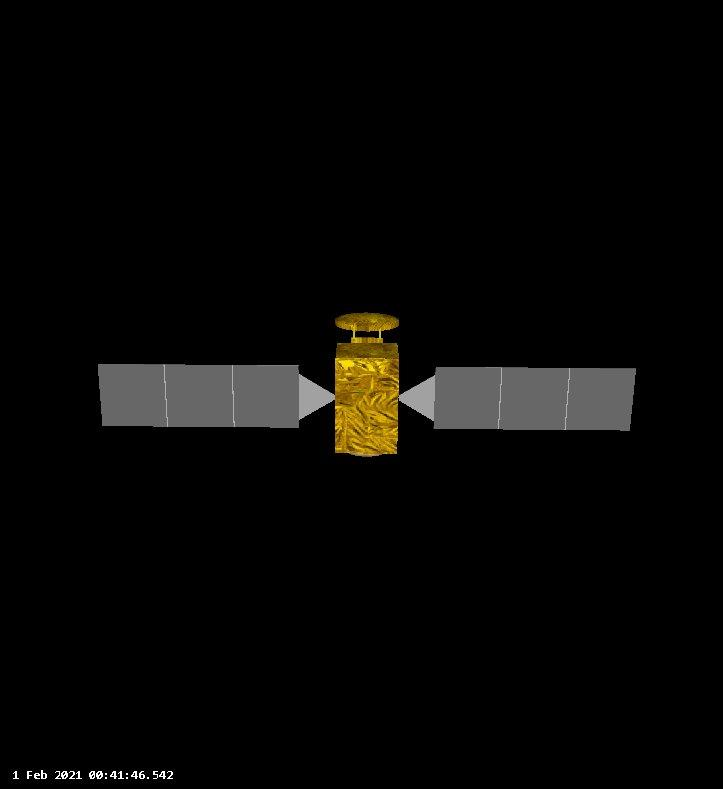antenna: (332, 311, 402, 332)
body: (332, 340, 402, 458)
solar: (432, 364, 639, 432), (96, 362, 302, 430)
